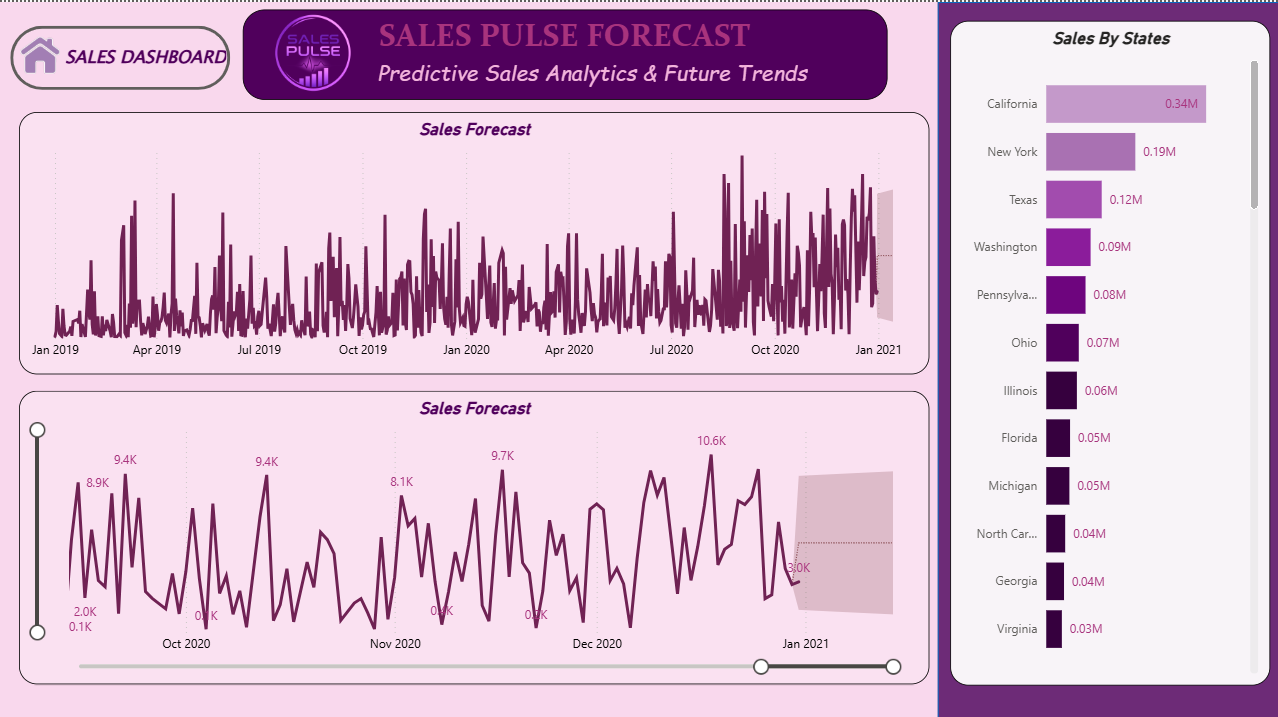

What the dashboard file says about the page in this screenshot:
{"tool":"powerbi","page":{"name":"FORECASTING","canvas":[1280,720],"ordinal":1},"visuals":[{"type":"shape","box":[938.8,0,341.2,720],"z":0},{"type":"lineChart","title":"Sales Forecast","fields":{"Y":["Sum(SuperStore Sales DataSet.Sales)"],"Category":["SuperStore Sales DataSet.Order Date"]},"box":[20,388.8,910,293.8],"z":1000},{"type":"lineChart","title":"Sales Forecast","fields":{"Y":["Sum(SuperStore Sales DataSet.Sales)"],"Category":["SuperStore Sales DataSet.Order Date"]},"box":[20,110,910,262.5],"z":2000},{"type":"clusteredBarChart","title":"Sales By States","fields":{"Y":["Sum(SuperStore Sales DataSet.Sales)"],"Category":["SuperStore Sales DataSet.State"]},"box":[951.2,18.8,320,665],"z":3000},{"type":"actionButton","box":[10.8,24.2,220,64.2],"z":4000},{"type":"textbox","box":[243.8,7.7,644.9,90.3],"z":5000},{"type":"image","box":[238.4,7.5,150,91.2],"z":6000},{"type":"image","box":[20,31.7,42.5,43.3],"z":6001}]}

Visuals, with their boxes in screenshot pixels (x1, y1, x2, y2), scaled from the page's 1280x720 canvas onto the 1278x717 screenshot:
shape: BBox(937, 0, 1277, 716)
"Sales Forecast" lineChart: BBox(20, 387, 929, 680)
"Sales Forecast" lineChart: BBox(20, 110, 929, 371)
"Sales By States" clusteredBarChart: BBox(950, 19, 1269, 681)
actionButton: BBox(11, 24, 230, 88)
textbox: BBox(243, 8, 887, 98)
image: BBox(238, 7, 388, 98)
image: BBox(20, 32, 62, 75)
